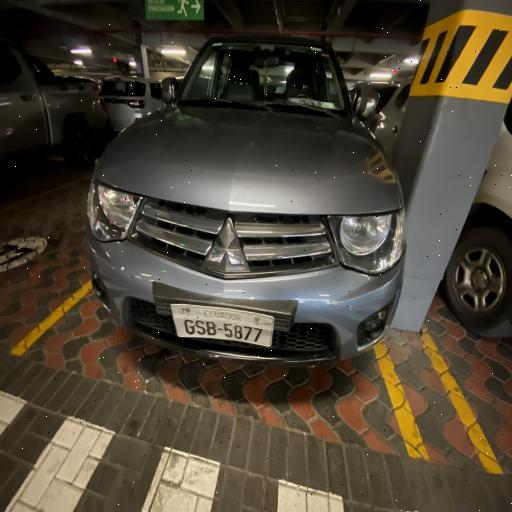license_plate: (182, 319, 195, 336), (206, 319, 217, 336), (243, 325, 253, 342), (196, 320, 206, 336), (223, 322, 233, 338), (234, 324, 244, 340), (253, 327, 263, 343)
